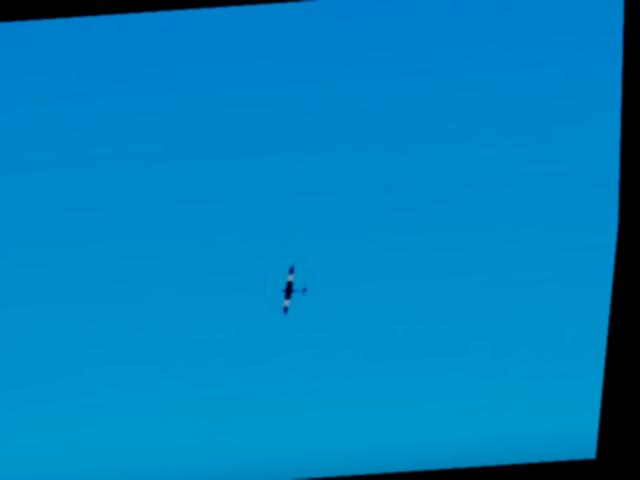uav: (280, 260, 320, 317)
